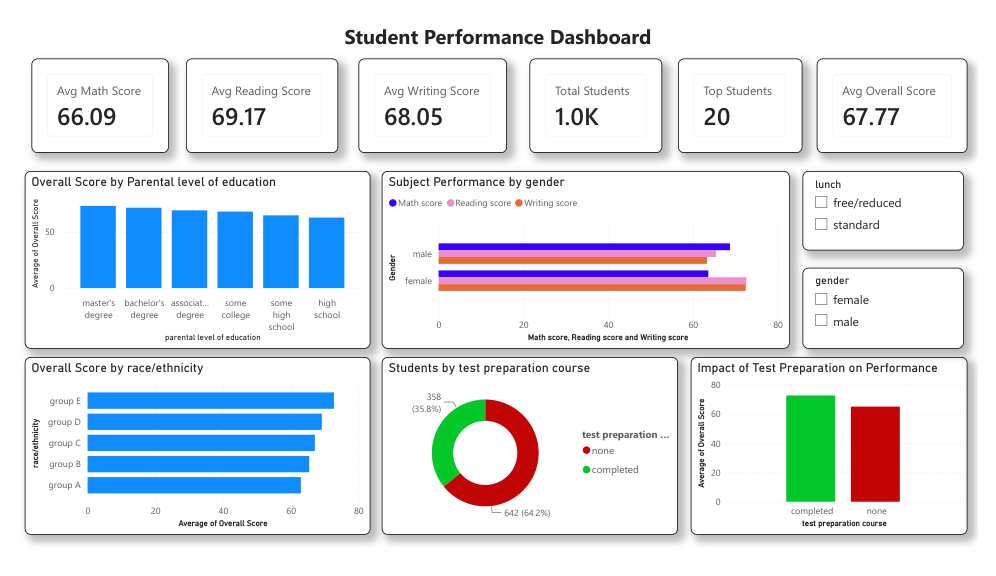

What the dashboard file says about the page in this screenshot:
{"tool":"powerbi","page":{"name":"Page 1","canvas":[1280,720],"ordinal":0},"visuals":[{"type":"textbox","box":[0,0,1279.7,45.6],"z":0},{"type":"cardVisual","fields":{"Data":["Avg(student_data.math score)"]},"box":[8.9,54.4,203.8,149.4],"z":1},{"type":"cardVisual","fields":{"Data":["Avg(student_data.reading score)"]},"box":[225.3,54.4,203.8,149.4],"z":2},{"type":"cardVisual","fields":{"Data":["Avg(student_data.writing score)"]},"box":[449.4,54.4,203.8,149.4],"z":3},{"type":"cardVisual","fields":{"Data":["student_data.Total Students"]},"box":[653.2,54.4,216.5,149.4],"z":4},{"type":"cardVisual","fields":{"Data":["student_data.Topper Percentage"]},"box":[869.6,54.4,216.5,149.4],"z":5},{"type":"cardVisual","fields":{"Data":["Avg(student_data.Overall Score)"]},"box":[1063.3,54.4,216.5,149.4],"z":6},{"type":"clusteredColumnChart","fields":{"Category":["student_data.parental level of education"],"Y":["Avg(student_data.Overall Score)"]},"box":[8.9,203.8,460.8,236.7],"z":7},{"type":"clusteredBarChart","fields":{"Category":["student_data.gender"],"Y":["Avg(student_data.math score)","Avg(student_data.reading score)","Avg(student_data.writing score)"]},"box":[484.8,203.8,460.8,236.7],"z":8},{"type":"clusteredBarChart","fields":{"Category":["student_data.race/ethnicity"],"Y":["Avg(student_data.Overall Score)"]},"box":[9,452,461,237],"z":9},{"type":"donutChart","fields":{"Category":["student_data.test preparation course"],"Y":["student_data.Total Students"]},"box":[484.8,451.9,394.9,236.7],"z":10},{"type":"clusteredColumnChart","fields":{"Category":["student_data.test preparation course"],"Y":["Avg(student_data.Overall Score)"]},"box":[879.7,451.9,368.4,236.7],"z":11},{"type":"slicer","fields":{"Values":["student_data.lunch"]},"box":[978.5,203.8,215.2,236.7],"z":12}]}

Visuals, with their boxes in screenshot pixels (x1, y1, x2, y2), scaled from the page's 1280x720 canvas onto the 996x576 screenshot:
textbox: [0, 0, 995, 36]
cardVisual - Avg(student_data.math score): [7, 44, 166, 163]
cardVisual - Avg(student_data.reading score): [175, 44, 334, 163]
cardVisual - Avg(student_data.writing score): [350, 44, 508, 163]
cardVisual - student_data.Total Students: [508, 44, 677, 163]
cardVisual - student_data.Topper Percentage: [677, 44, 845, 163]
cardVisual - Avg(student_data.Overall Score): [827, 44, 995, 163]
clusteredColumnChart - student_data.parental level of education x Avg(student_data.Overall Score): [7, 163, 365, 352]
clusteredBarChart - student_data.gender x Avg(student_data.math score): [377, 163, 736, 352]
clusteredBarChart - student_data.race/ethnicity x Avg(student_data.Overall Score): [7, 362, 366, 551]
donutChart - student_data.test preparation course x student_data.Total Students: [377, 362, 685, 551]
clusteredColumnChart - student_data.test preparation course x Avg(student_data.Overall Score): [685, 362, 971, 551]
slicer - student_data.lunch: [761, 163, 929, 352]
